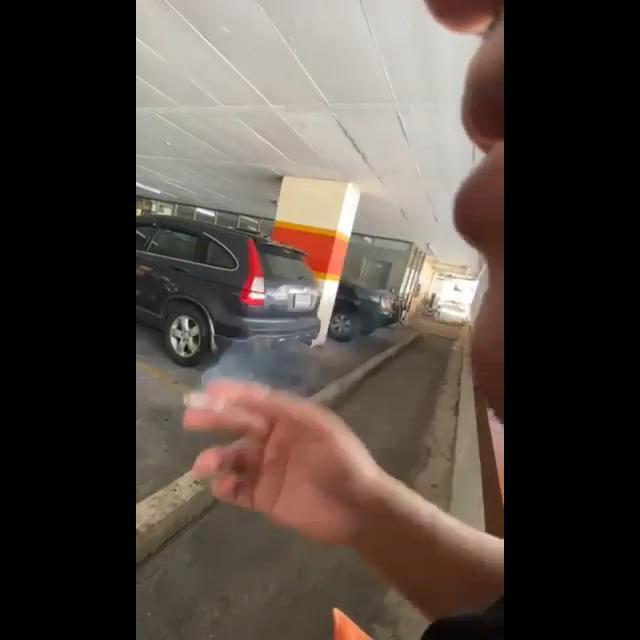rokok: (159, 374, 269, 434)
